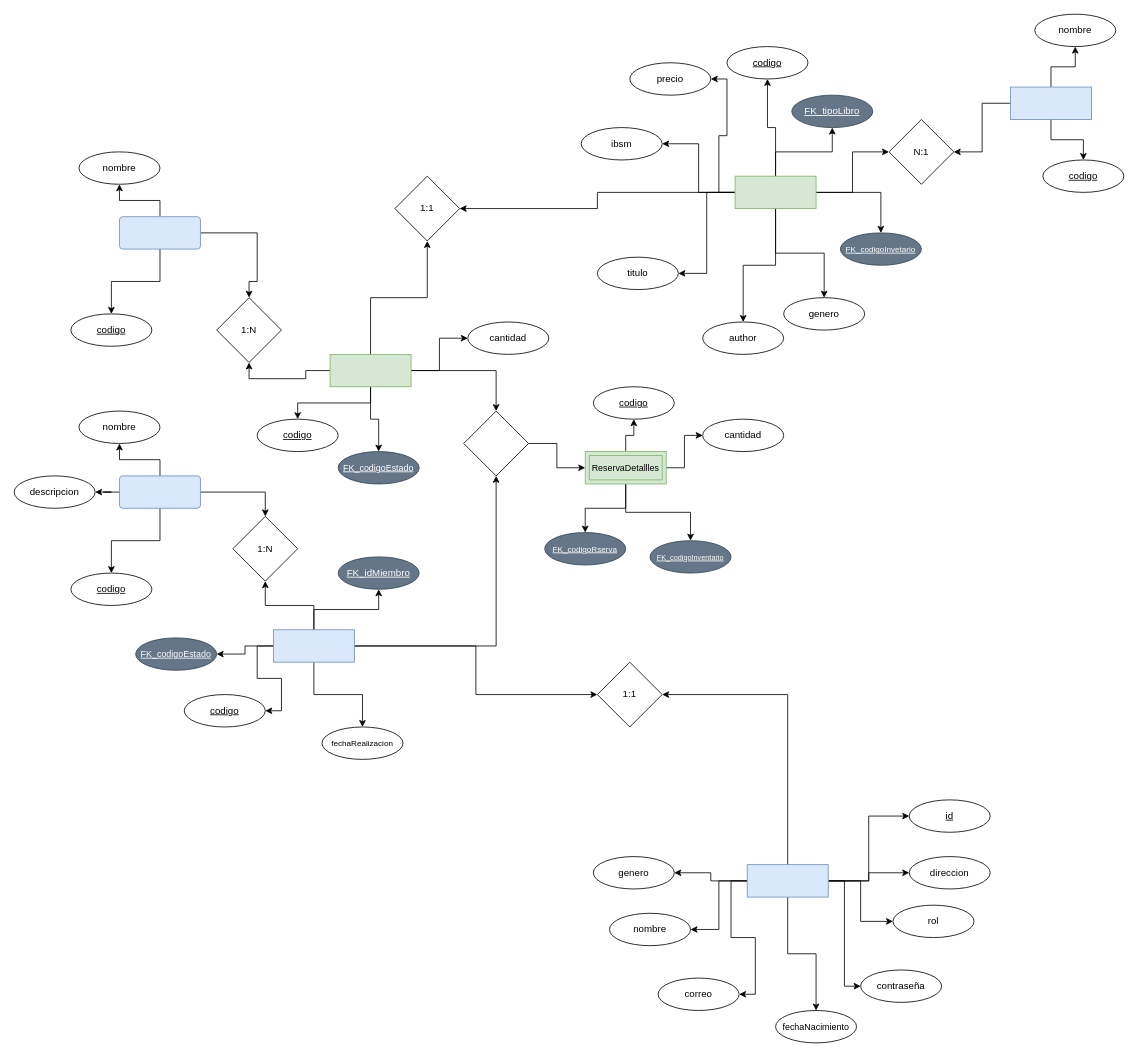
The diagram is 1138 pixels wide and 1057 high, and some of its shapes have lost their labels. The shapes that lost their labels are listed below. From the top down, each one's centre as x and y in pixels, then its label:
the point at 1050,102: TipoLibro
the point at 775,192: Libro
the point at 159,232: EstadoInventario
the point at 370,370: inventario
the point at 496,443: N:N
the point at 159,491: EstadoReserva
the point at 313,645: Reserva
the point at 787,880: Miembro
